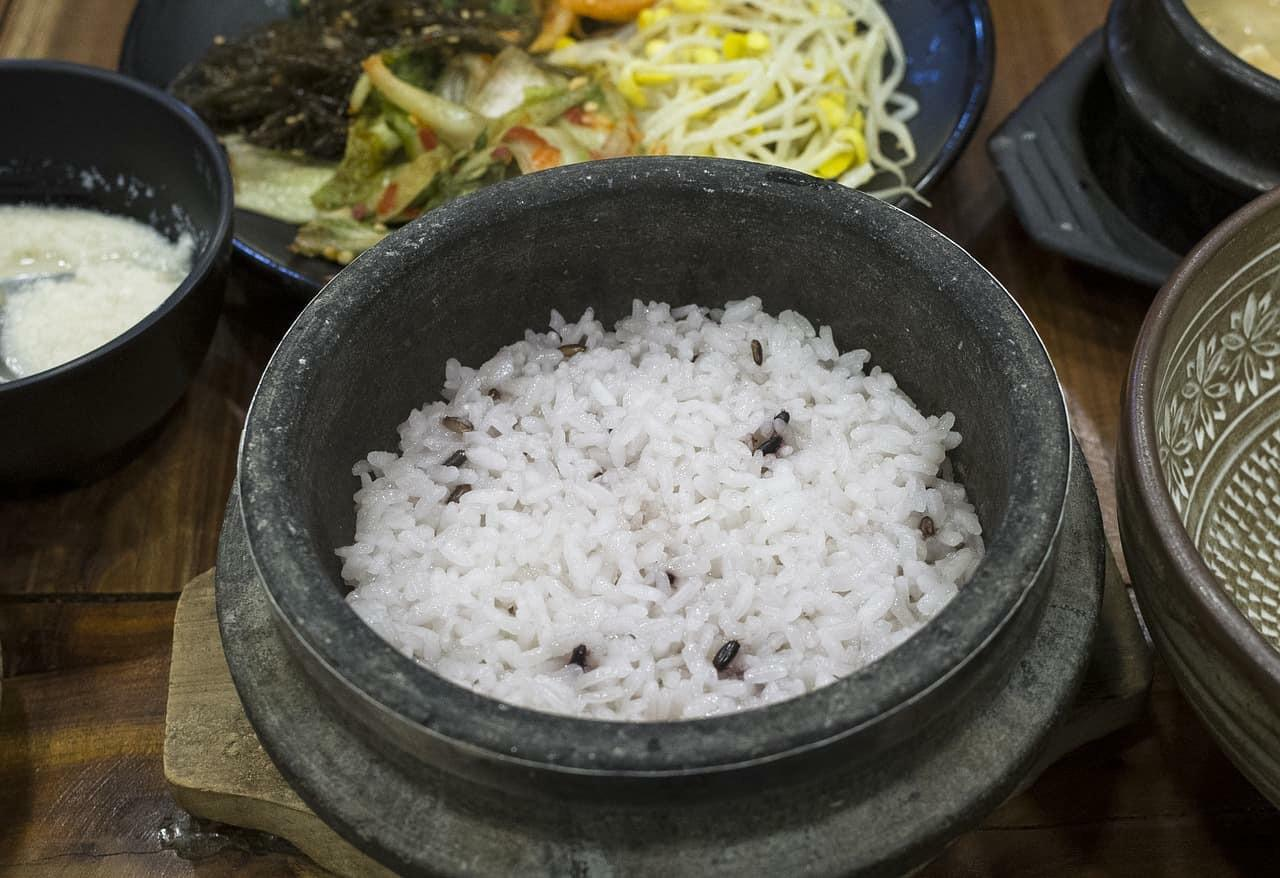WhiteRice: (341, 298, 982, 718)
